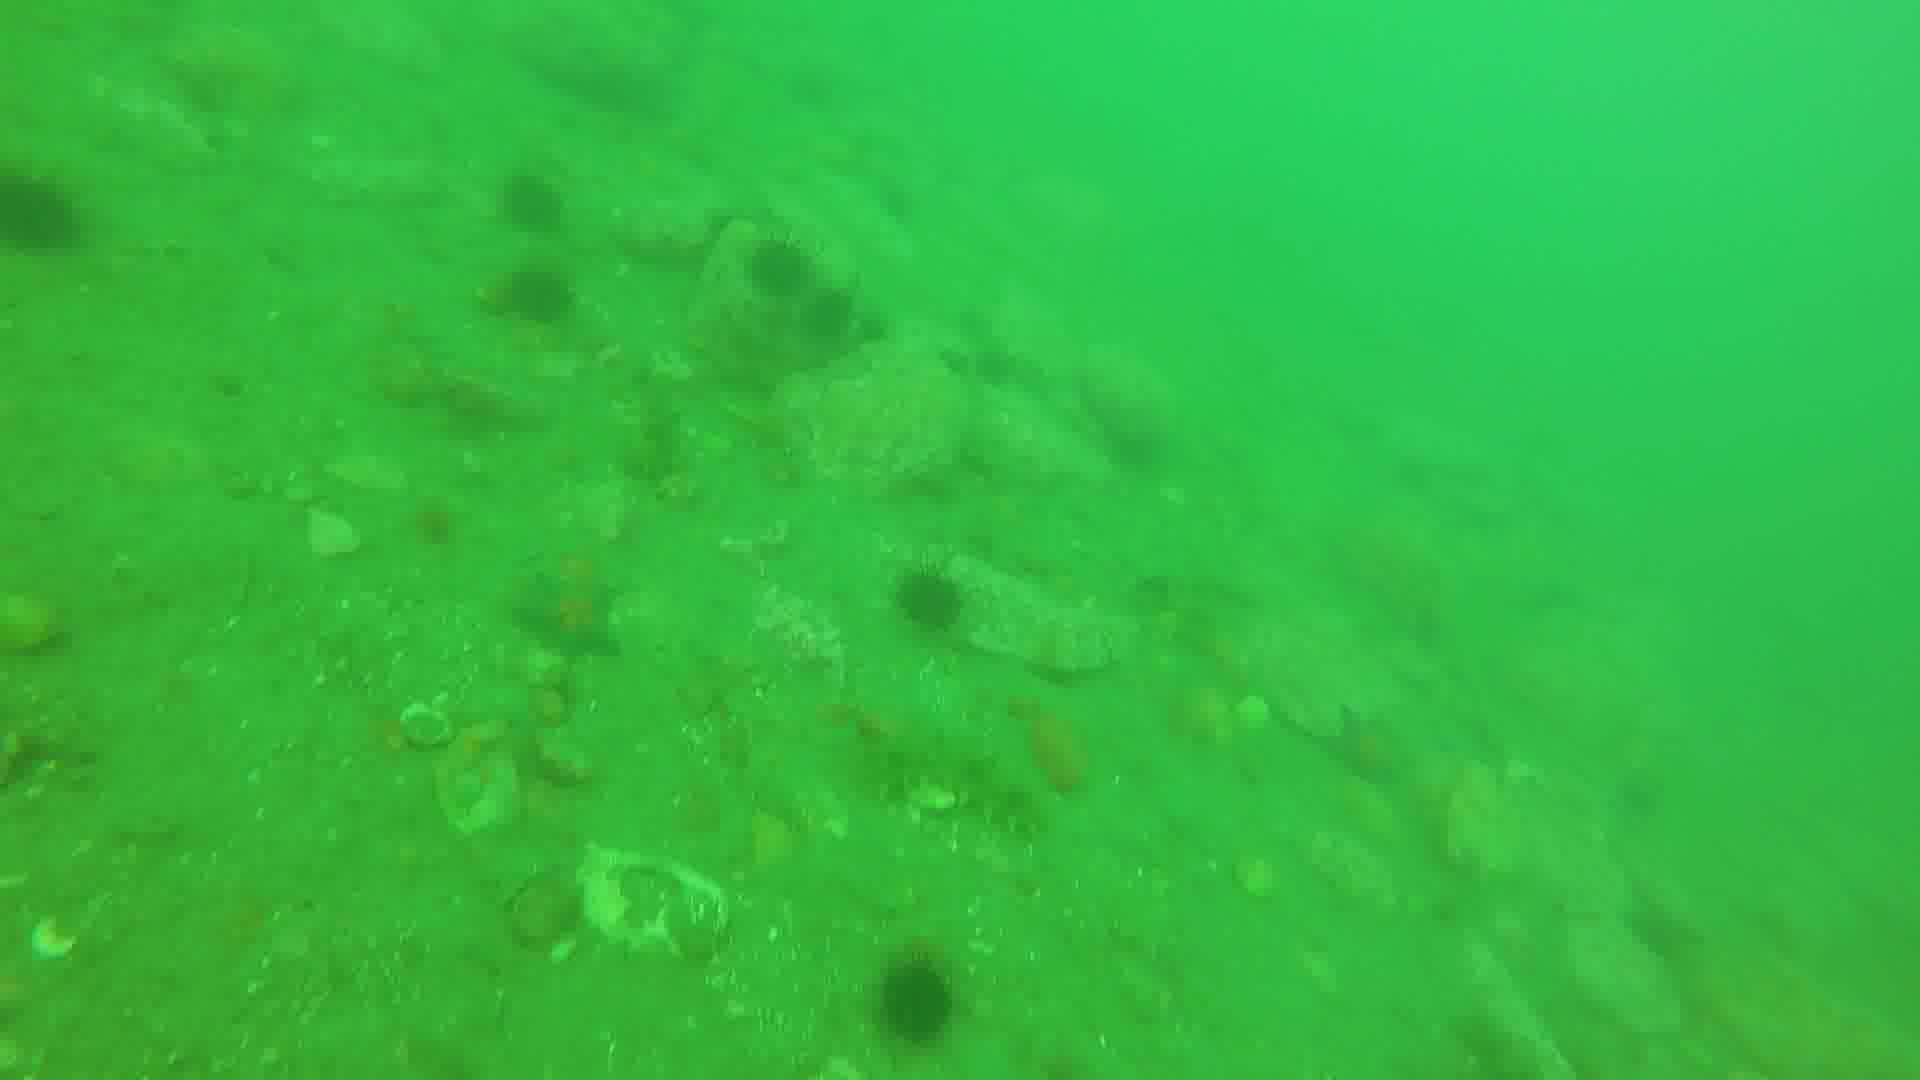echinus: (876, 947, 957, 1048), (1, 164, 92, 243), (500, 262, 579, 320), (748, 236, 815, 301), (508, 169, 564, 240), (902, 567, 968, 618), (806, 285, 857, 338)
holothurian: (873, 725, 1043, 835)
starfish: (524, 571, 618, 662)
